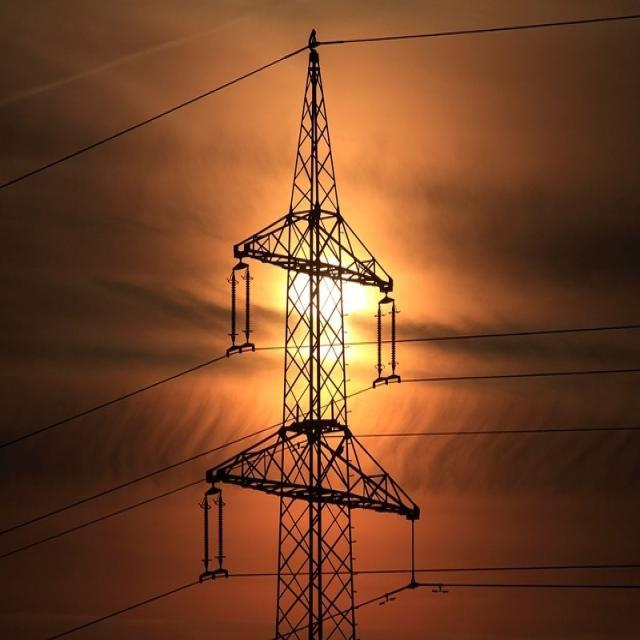non-critical vegetation: (230, 39, 392, 636)
